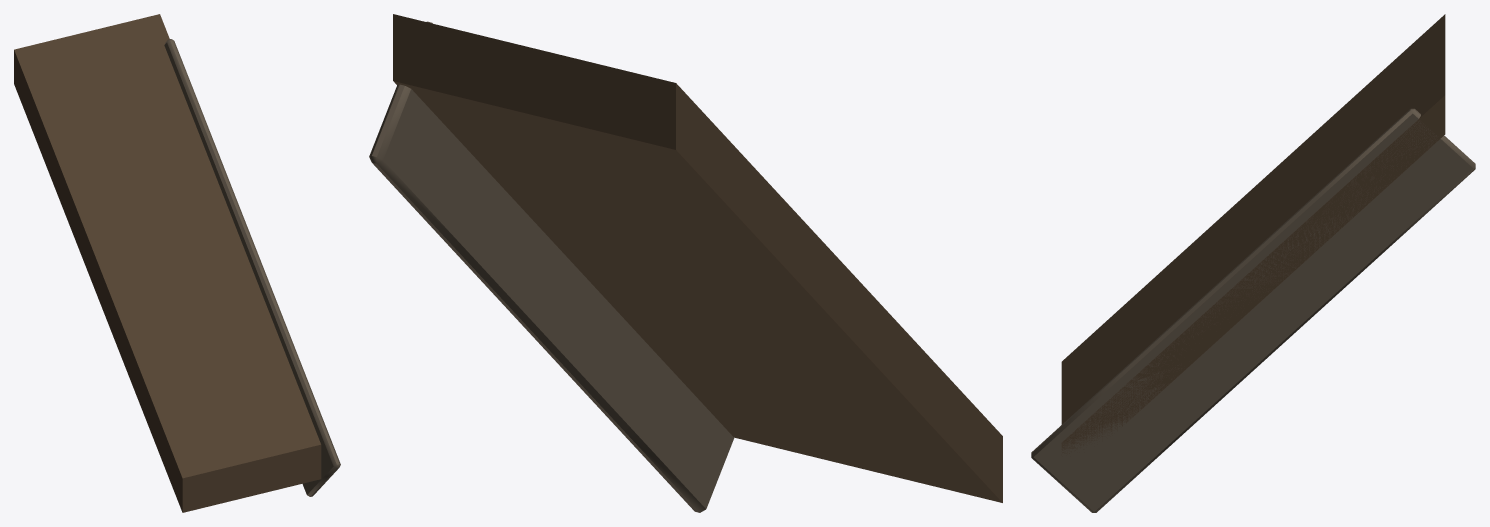
Rendered from dach_ortgang_1m_r.glb.
3 views of the same model, side by side, from view 1: azimuth 30°, elevation 25°; view 2: azimuth 150°, elevation 25°; view 3: azimuth 270°, elevation 25° (orthographic). The views are drawn at different scales.
Parts seen in each view (by area): view 1: dach_ortgang_1m_r; view 2: dach_ortgang_1m_r; view 3: dach_ortgang_1m_r.
Part boxes in pixels (x1,y1,x2,y2): dach_ortgang_1m_r: (14,14,340,512); dach_ortgang_1m_r: (369,14,1002,512); dach_ortgang_1m_r: (1031,14,1475,512).
Size of the model in its own units: 0.5 by 1.21 by 1.16.
